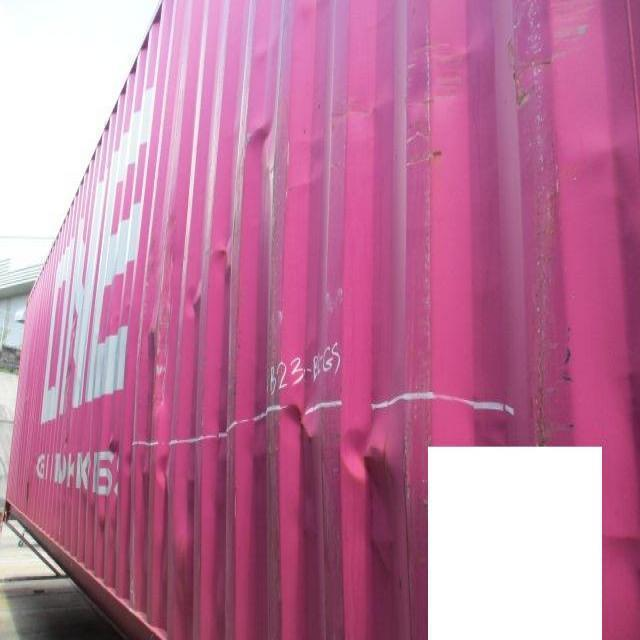dent: (278, 389, 413, 572), (135, 228, 243, 385), (130, 438, 206, 640)
